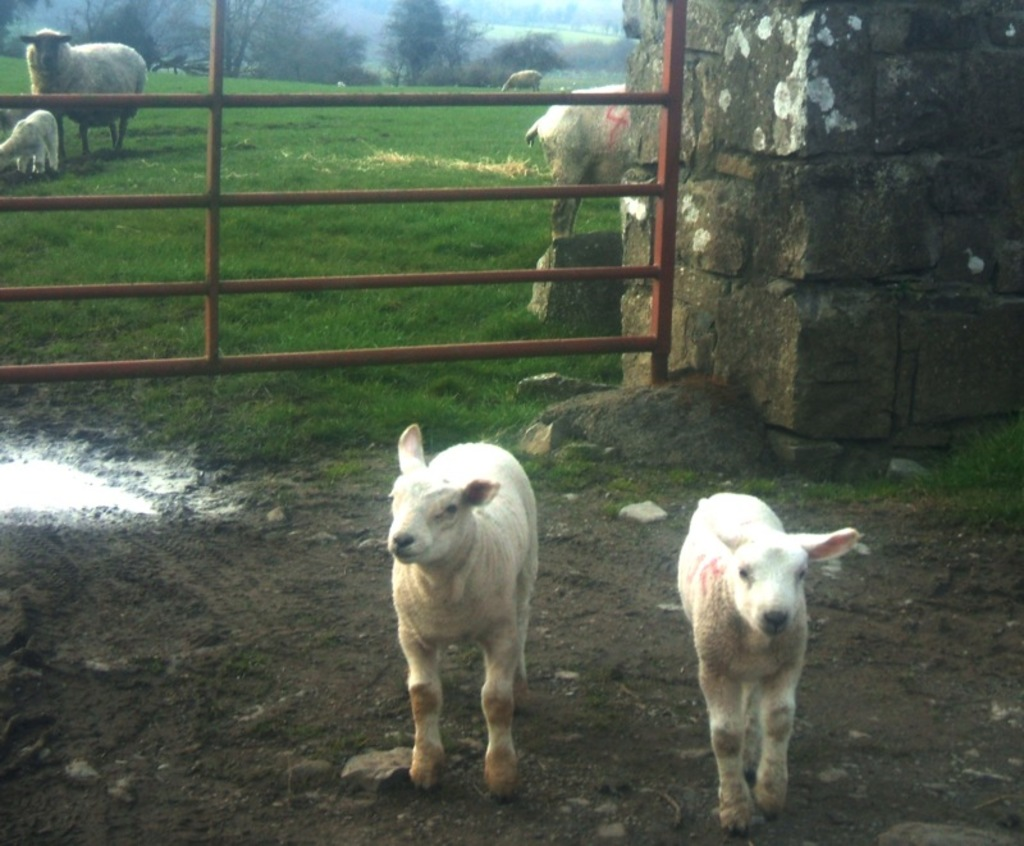sheep: (673, 490, 853, 830), (385, 426, 537, 796), (504, 70, 540, 92)
